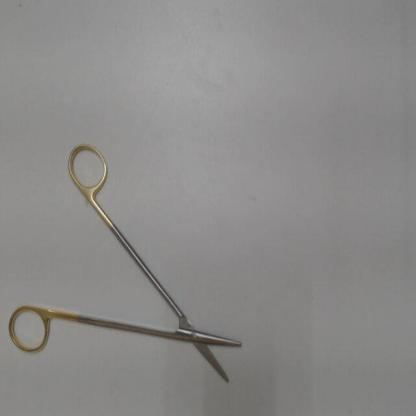7 Metzenbaum Scissors: (6, 137, 247, 390)
